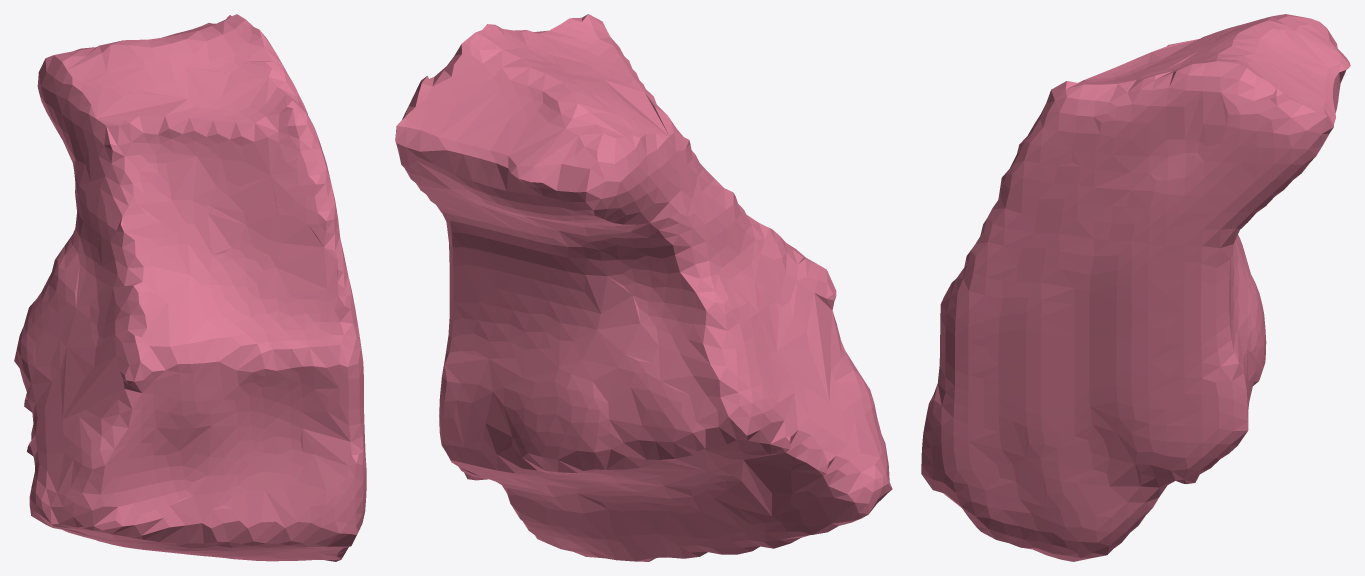
File: Model_76_RH__Auditory_cortex__anterolateral_area_(AuAL).obj
3 views of the same model, side by side, from view 1: azimuth 30°, elevation 25°; view 2: azimuth 150°, elevation 25°; view 3: azimuth 270°, elevation 25° (orthographic). The views are drawn at different scales.
Bounding box in the file's own units: 2.07 × 3.1 × 2.38.
